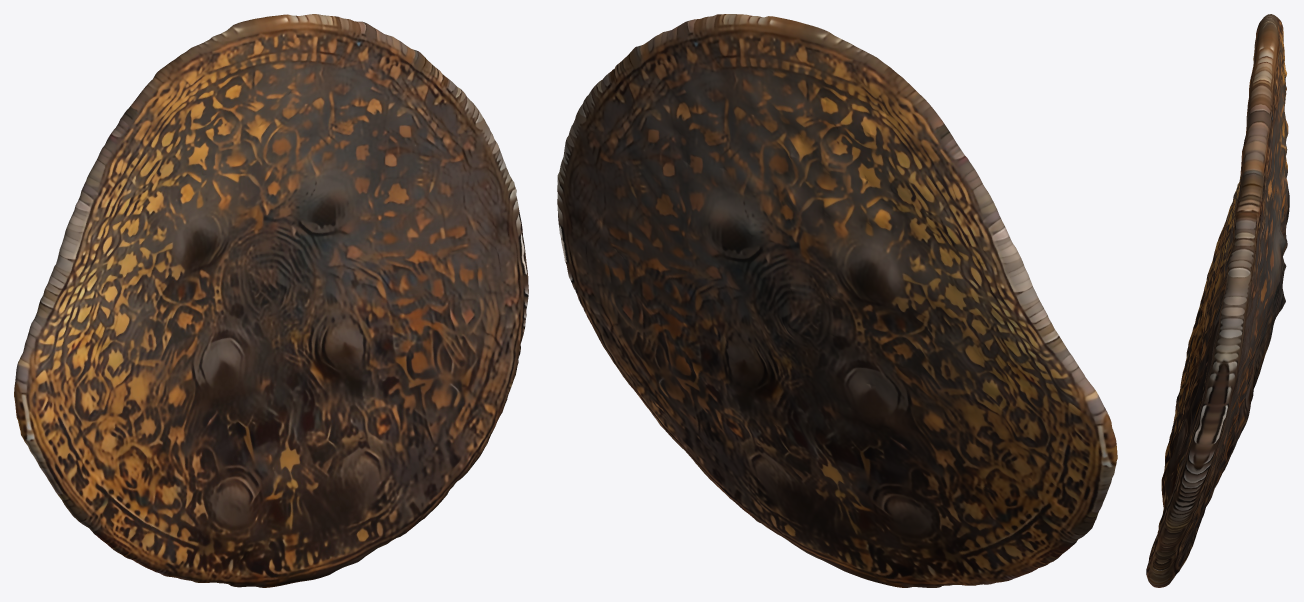
The model's file is kfl-2315.glb.
3 views of the same model, side by side, from view 1: azimuth 30°, elevation 25°; view 2: azimuth 150°, elevation 25°; view 3: azimuth 270°, elevation 25° (orthographic). The views are drawn at different scales.
Parts seen in each view (by area): view 1: kfl-2315; view 2: kfl-2315; view 3: kfl-2315.
Part boxes in pixels (x1,y1,x2,y2): kfl-2315: [14, 14, 528, 587]; kfl-2315: [557, 14, 1117, 587]; kfl-2315: [1146, 14, 1289, 587].
Bounding box in the file's own units: 0.9792 × 0.986 × 0.2389.
1 material, 1 textured.
